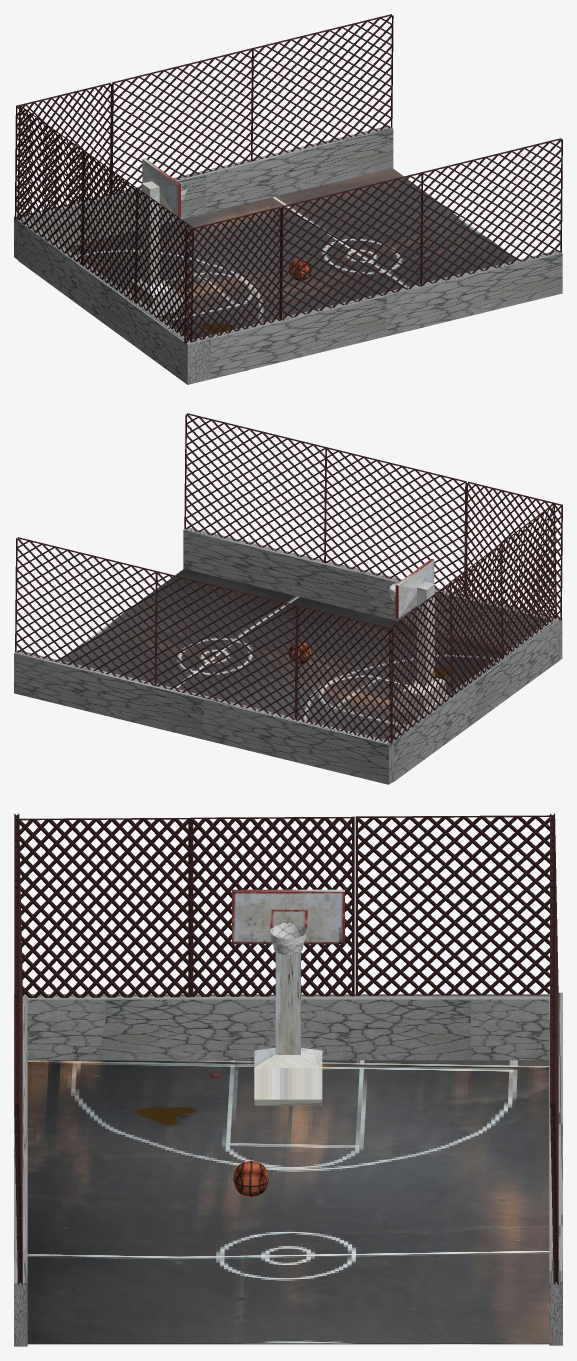
The model's file is basket ball.fbx.
3 renders of one model, top to bottom at view 1: azimuth 30°, elevation 25°; view 2: azimuth 150°, elevation 25°; view 3: azimuth 270°, elevation 25°, orthographic. The views are drawn at different scales.
Visible parts, largest first — view 1: Plane.002, Cube.001, Cube, Cube.005; view 2: Plane.002, Cube.001, Cube, Cube.005; view 3: Cube, Plane.002, Cube.001, Cube.005, Cube.007, Cylinder.
Boxes of the visible parts, bbox=[...] form: Plane.002: bbox=[14, 14, 562, 344]; Cube.001: bbox=[14, 125, 562, 384]; Cube: bbox=[66, 168, 517, 339]; Cube.005: bbox=[129, 158, 184, 315]; Plane.002: bbox=[15, 413, 562, 745]; Cube.001: bbox=[14, 527, 562, 784]; Cube: bbox=[62, 569, 508, 739]; Cube.005: bbox=[389, 559, 447, 716]; Cube: bbox=[27, 1060, 549, 1344]; Plane.002: bbox=[14, 813, 558, 1284]; Cube.001: bbox=[14, 992, 562, 1346]; Cube.005: bbox=[232, 889, 344, 1105]; Cube.007: bbox=[233, 1161, 268, 1196]; Cylinder: bbox=[270, 923, 306, 954].
Size of the model in its own units: 2014 by 802 by 1611.
